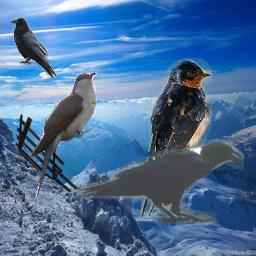Crow: (77, 139, 244, 224), (10, 17, 57, 79)
Cuckoo: (30, 72, 97, 200)
Swallow: (137, 58, 212, 218)
